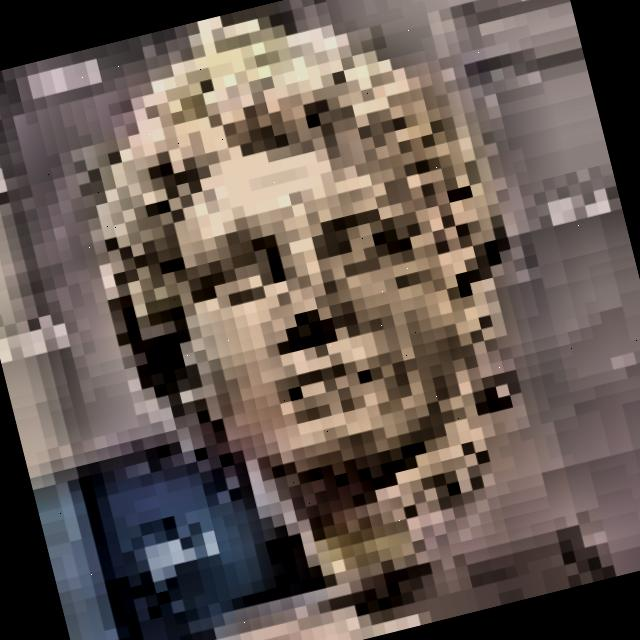alexander the great monument: (34, 0, 590, 640)
